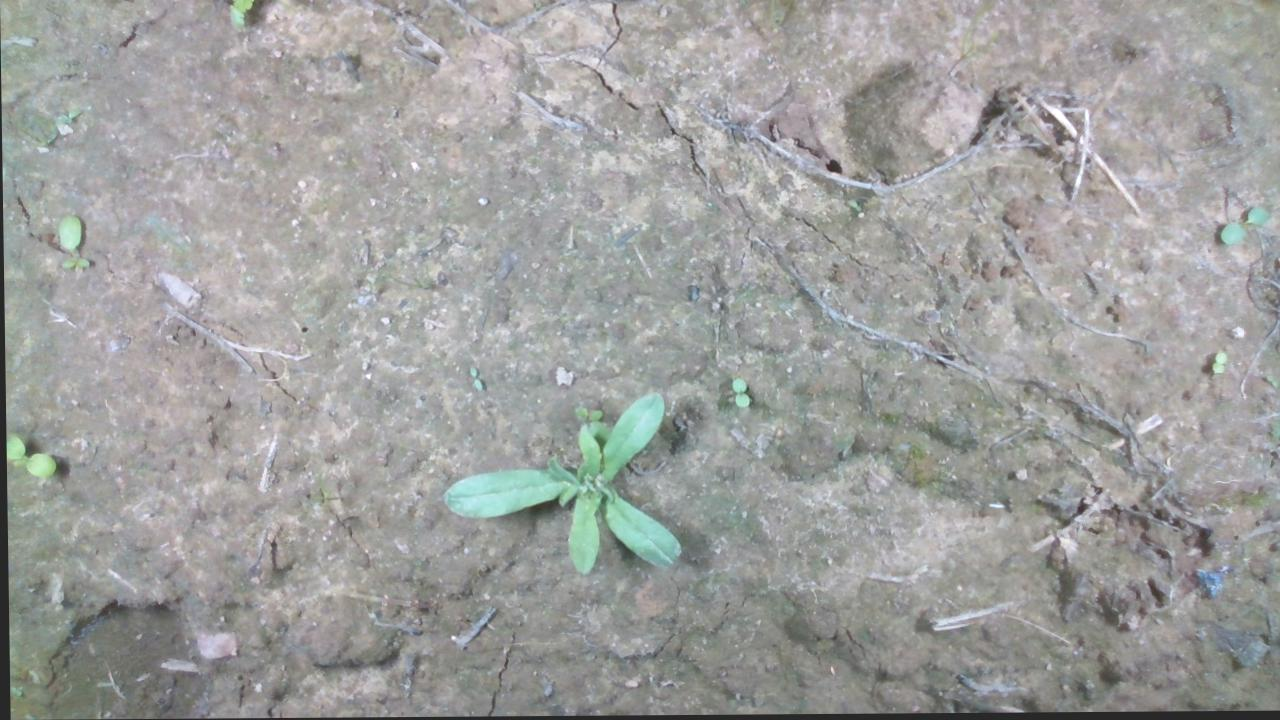weed: (1217, 204, 1269, 248), (718, 374, 769, 417)
